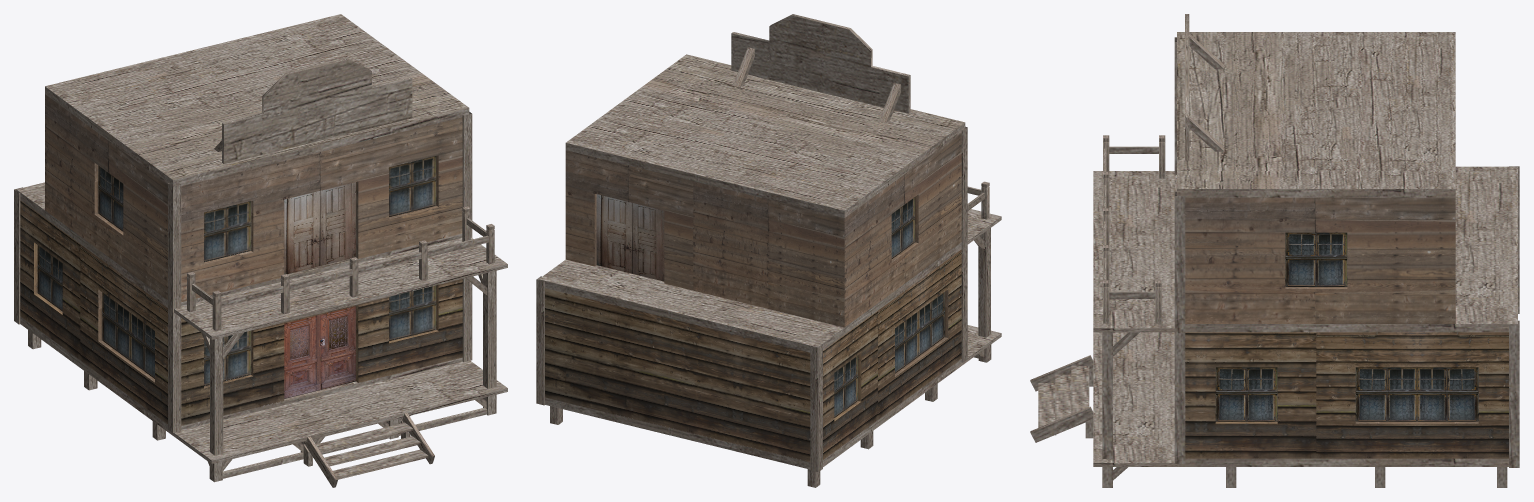
File: western_house_-_mobile_game_ready.glb
3 views of the same model, side by side, from view 1: azimuth 30°, elevation 25°; view 2: azimuth 150°, elevation 25°; view 3: azimuth 270°, elevation 25° (orthographic). The views are drawn at different scales.
Parts seen in each view (by area): view 1: Plane004_Material #30_0, Box005_Material #30_0, Plane003_Material #30_0, Object021_Material #30_0, Box007_Material #30_0, Box033_Material #30_0, Object022_Material #30_0, Box006_Material #30_0, Object023_Material #30_0, Box004_Material #30_0, Box003_Material #30_0, Box021_Material #30_0 (+12 smaller); view 2: Box005_Material #30_0, Object027_Material #30_0, Object026_Material #30_0, Object028_Material #30_0, Object021_Material #30_0, Box004_Material #30_0, Box033_Material #30_0, Object022_Material #30_0, Object023_Material #30_0, Box003_Material #30_0, Box032_Material #30_0, Box009_Material #30_0 (+5 smaller); view 3: Box005_Material #30_0, Object016_Material #30_0, Object019_Material #30_0, Object020_Material #30_0, Box004_Material #30_0, Box006_Material #30_0, Box007_Material #30_0, Box003_Material #30_0, Box019_Material #30_0, Box022_Material #30_0, Box018_Material #30_0, Box010_Material #30_0 (+6 smaller).
Boxes of the visible parts, x1,y1,x2,y2 form: Plane004_Material #30_0: (181, 117, 462, 301); Box005_Material #30_0: (45, 14, 469, 186); Plane003_Material #30_0: (181, 279, 462, 425); Object021_Material #30_0: (45, 94, 167, 299); Box007_Material #30_0: (173, 360, 507, 463); Box033_Material #30_0: (222, 58, 412, 163); Object022_Material #30_0: (80, 244, 167, 423); Box006_Material #30_0: (174, 237, 507, 339); Object023_Material #30_0: (20, 200, 80, 359); Box004_Material #30_0: (16, 182, 462, 307); Box003_Material #30_0: (20, 316, 462, 435); Box021_Material #30_0: (168, 183, 181, 312); Box005_Material #30_0: (565, 54, 965, 217); Object027_Material #30_0: (545, 288, 810, 461); Object026_Material #30_0: (693, 181, 844, 327); Object028_Material #30_0: (565, 150, 693, 290); Object021_Material #30_0: (844, 133, 961, 326); Box004_Material #30_0: (538, 242, 961, 352); Box033_Material #30_0: (731, 14, 910, 113); Object022_Material #30_0: (878, 249, 961, 419); Object023_Material #30_0: (823, 311, 877, 459); Box003_Material #30_0: (545, 359, 965, 469); Box032_Material #30_0: (810, 345, 822, 472); Box009_Material #30_0: (978, 228, 990, 337); Box005_Material #30_0: (1177, 32, 1455, 197); Object016_Material #30_0: (1185, 197, 1455, 323); Object019_Material #30_0: (1316, 332, 1508, 458); Object020_Material #30_0: (1185, 332, 1316, 458); Box004_Material #30_0: (1185, 166, 1517, 332); Box006_Material #30_0: (1093, 171, 1176, 332); Box007_Material #30_0: (1093, 332, 1176, 466); Box003_Material #30_0: (1177, 458, 1508, 466); Box019_Material #30_0: (1174, 191, 1185, 333); Box022_Material #30_0: (1509, 320, 1519, 467); Box018_Material #30_0: (1174, 333, 1185, 463); Box010_Material #30_0: (1102, 332, 1112, 458).
Size of the model in its own units: 6.64 by 7.57 by 8.65.
1 material, 1 textured.
